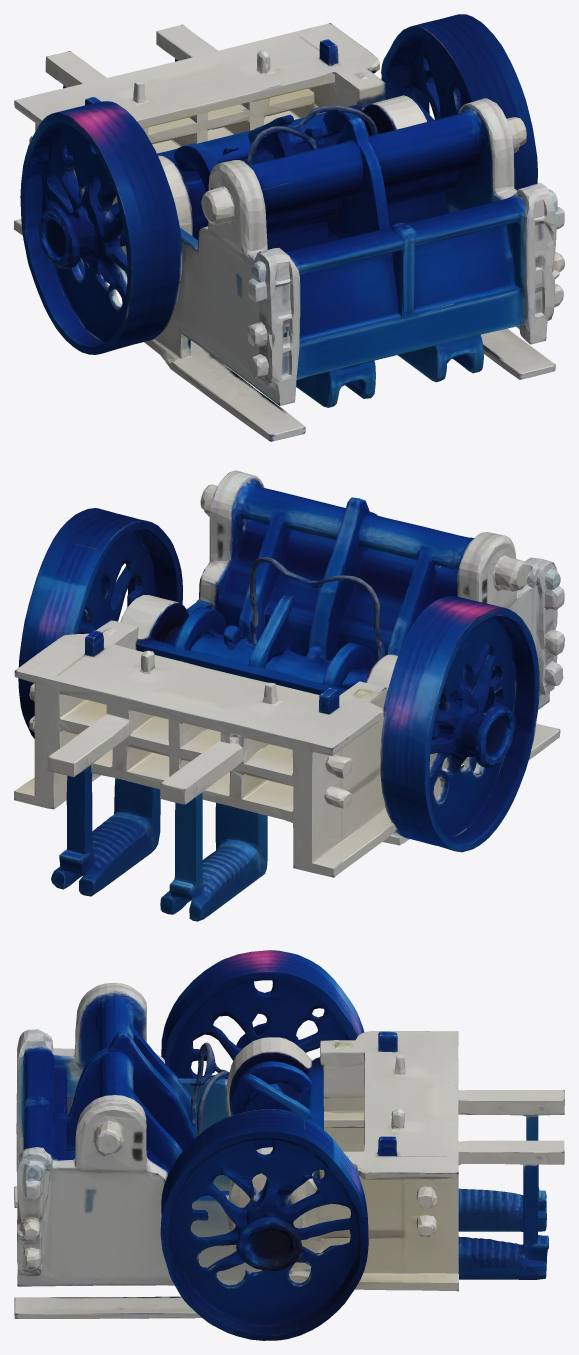
File: double_toggle_grease_jaw_crusher.glb
The picture shows the model from 3 angles, top to bottom: view 1: azimuth 30°, elevation 25°; view 2: azimuth 150°, elevation 25°; view 3: azimuth 270°, elevation 25°; orthographic projection. The views are drawn at different scales.
Visible parts, largest first — view 1: geometry_0; view 2: geometry_0; view 3: geometry_0.
Part boxes in pixels (x1,y1,x2,y2): geometry_0: [14, 14, 564, 441]; geometry_0: [14, 470, 564, 921]; geometry_0: [14, 950, 564, 1340].
Size of the model in its own units: 0.8494 by 0.4486 by 0.9942.
1 material, 1 textured.
